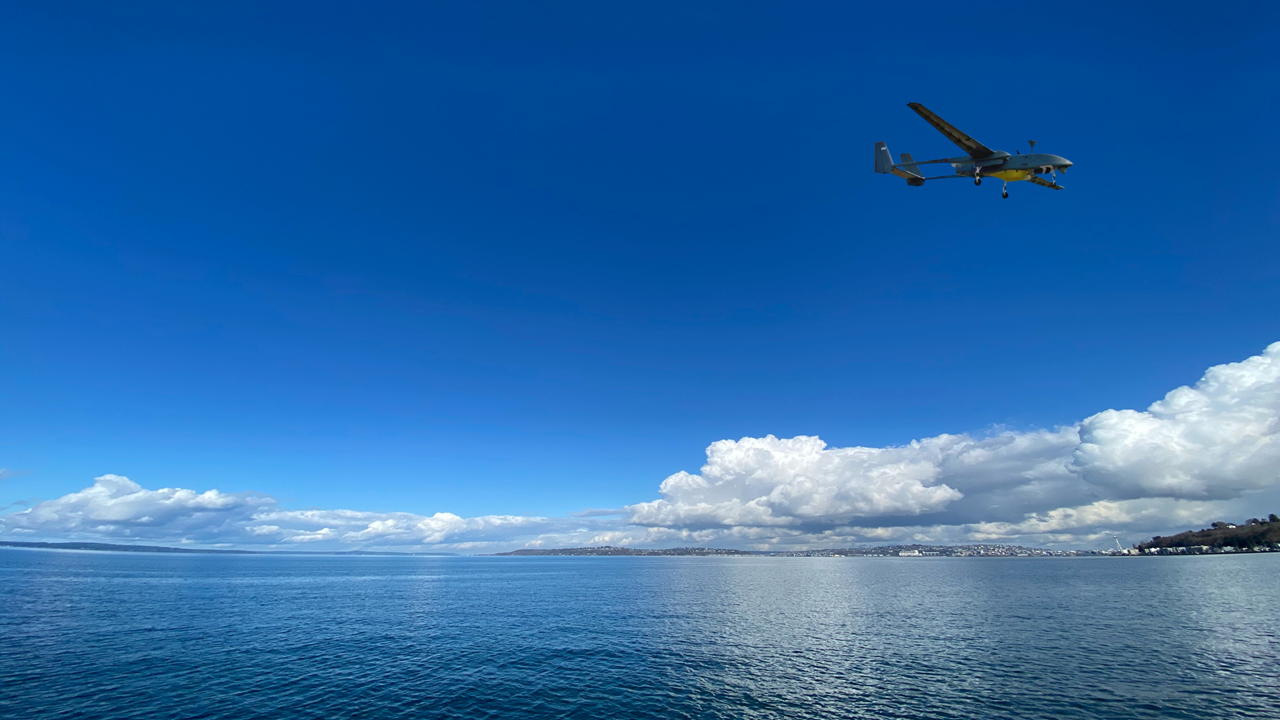military drone: (873, 101, 1073, 199)
